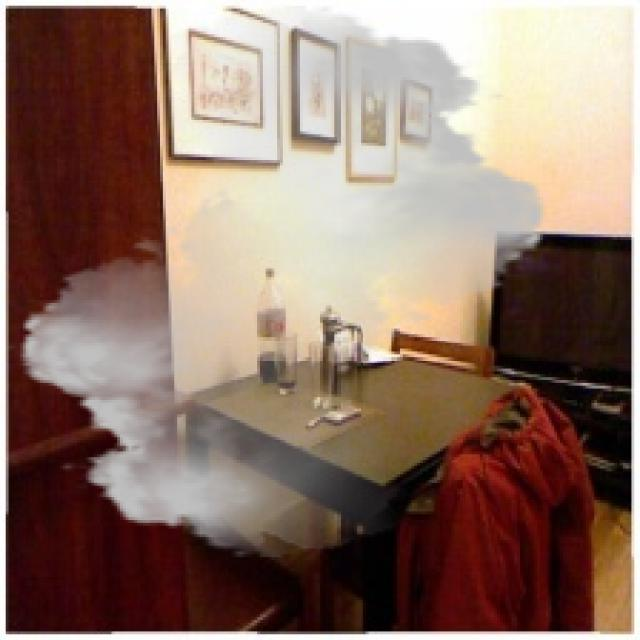smoke: (3, 6, 563, 557)
